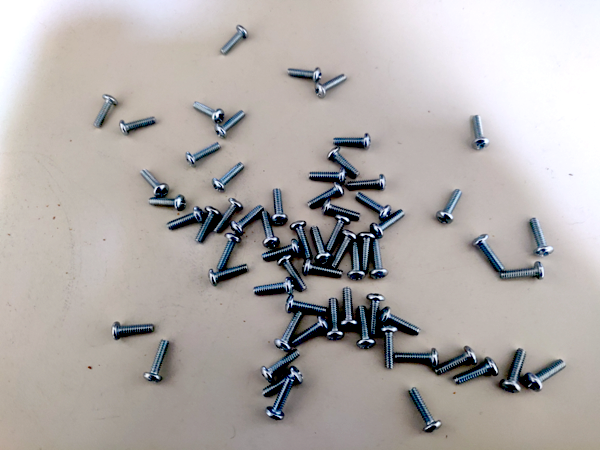shortscrew: (409, 388, 443, 434), (524, 359, 567, 393), (261, 349, 301, 384), (434, 346, 478, 376), (454, 357, 499, 386), (265, 377, 294, 421), (262, 367, 303, 398), (291, 315, 329, 348), (473, 233, 505, 272), (380, 307, 422, 336), (500, 348, 527, 393), (274, 311, 303, 352), (277, 254, 308, 292), (143, 340, 170, 383), (213, 198, 243, 235), (370, 209, 406, 239), (327, 147, 360, 179), (230, 205, 264, 236), (308, 181, 345, 209), (331, 230, 358, 268), (212, 162, 245, 193), (530, 218, 555, 258), (355, 193, 392, 220), (195, 206, 221, 244), (166, 206, 205, 231), (216, 233, 241, 272), (326, 214, 351, 253), (395, 348, 439, 370), (208, 264, 250, 287), (437, 190, 464, 225), (220, 24, 249, 56), (262, 239, 302, 262), (186, 143, 223, 167), (94, 94, 119, 129), (215, 110, 246, 138), (357, 306, 377, 349), (141, 169, 170, 198), (501, 261, 545, 280), (290, 221, 312, 259), (311, 226, 333, 264), (315, 74, 348, 99), (322, 199, 361, 220), (326, 298, 345, 341), (380, 325, 398, 370), (119, 115, 157, 136), (253, 277, 295, 296), (367, 294, 386, 336), (303, 259, 344, 278), (112, 322, 155, 340), (341, 287, 359, 330), (192, 101, 225, 124), (370, 240, 389, 279), (347, 242, 366, 281), (286, 296, 327, 314), (261, 211, 280, 248), (359, 232, 376, 272), (348, 174, 386, 191), (472, 115, 490, 150), (271, 188, 288, 225), (333, 134, 371, 150), (149, 195, 186, 211), (287, 68, 322, 83)
